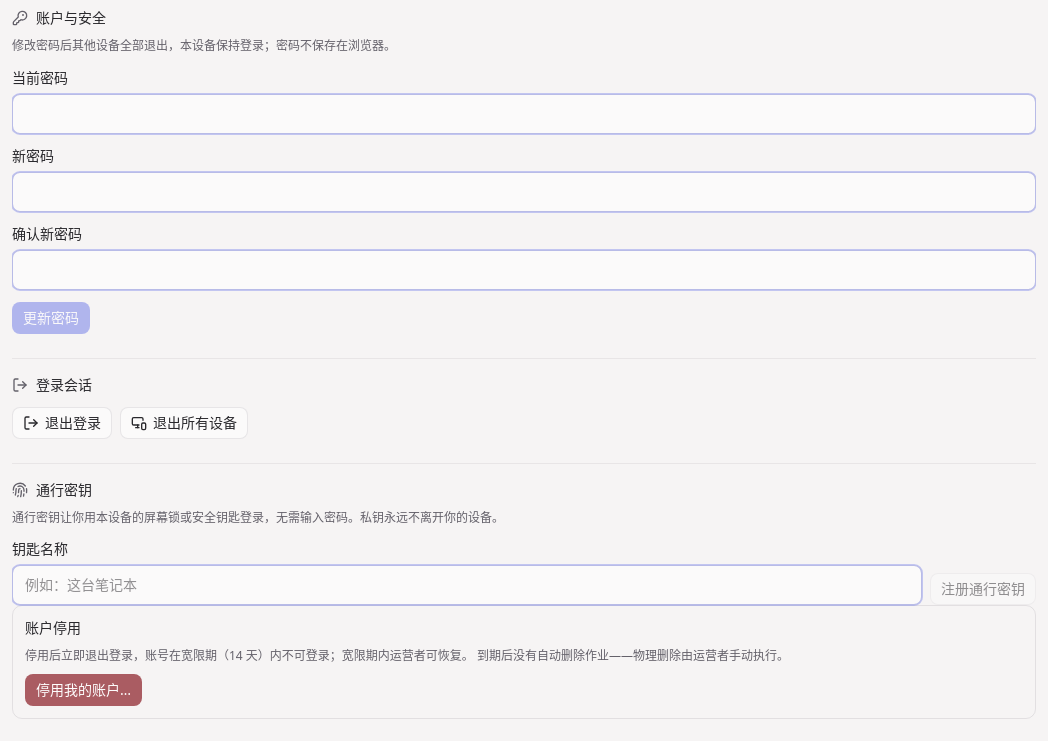
Scenario: N005 密码强度（本地评估） › 改密表单随输入渲染强度条；强度评估不发任何网络请求
Step 1. Type "abcdefgh" into the password field labelled "新密码" → (524, 192), box [12,172,1036,212]
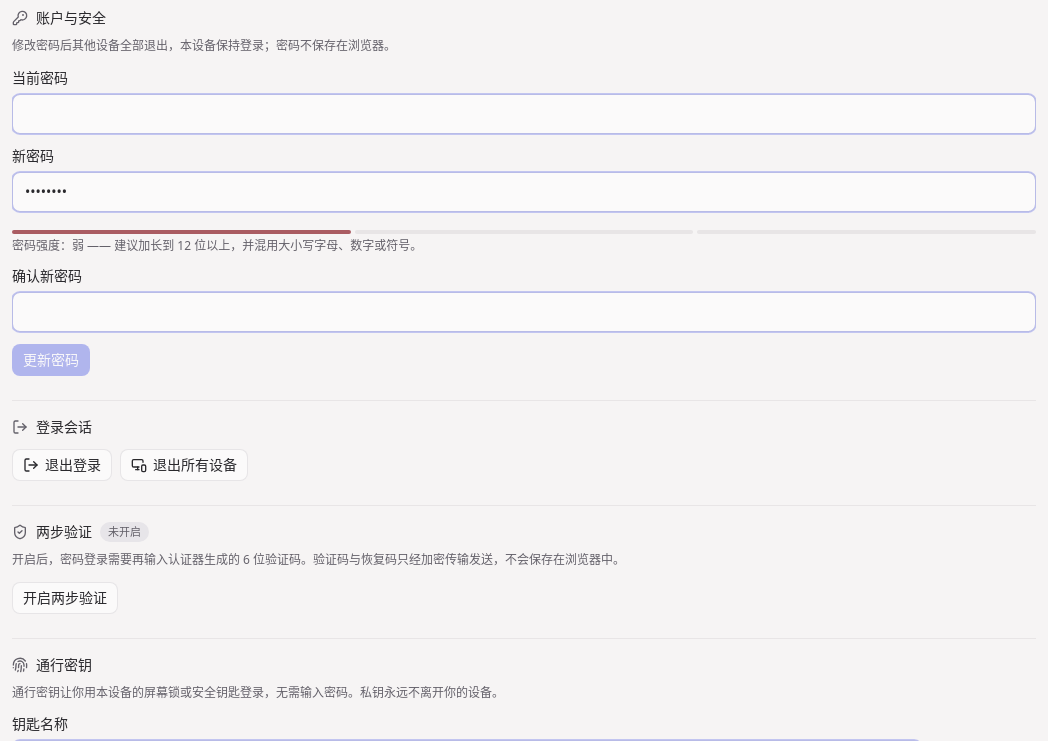
Check: the text "密码强度：弱 —— 建议加长到 12 位以上，并混用大小写字母、数字或符号。" is shown, box [12,236,422,254]
Step 2. Type "Zx9!vT2q#Lm4" into the password field labelled "新密码" → (524, 192), box [12,172,1036,212]
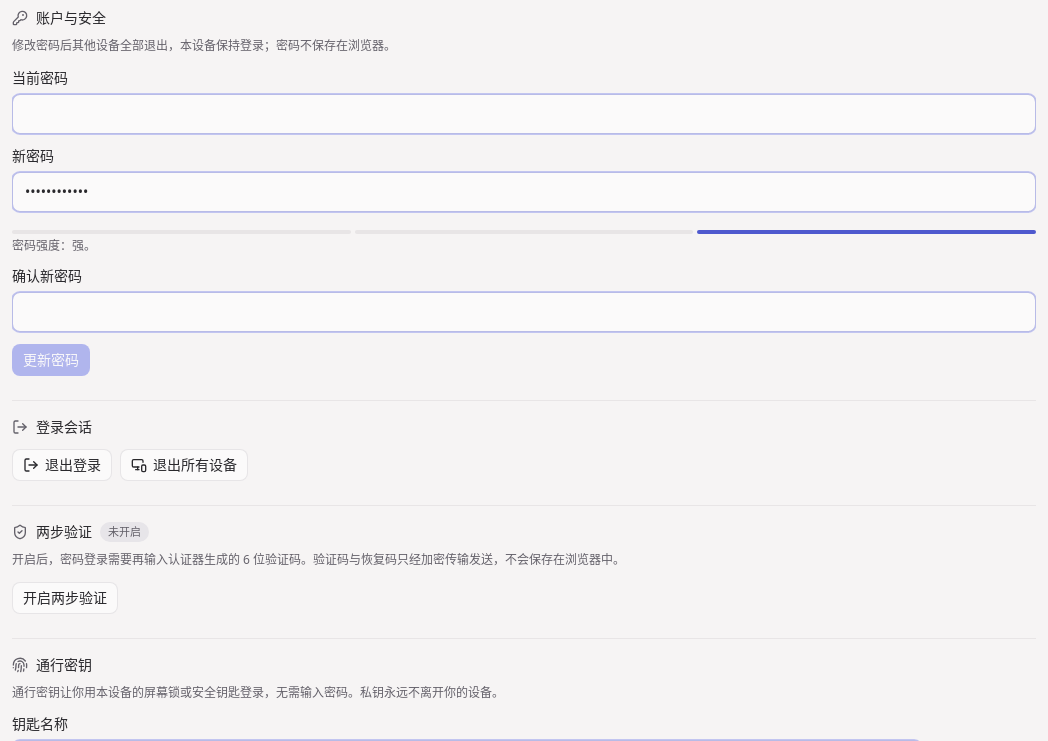
Check: the text "密码强度：强。" is shown, box [12,236,96,254]
Step 3. Clear the password field labelled "新密码" → (524, 192), box [12,172,1036,212]
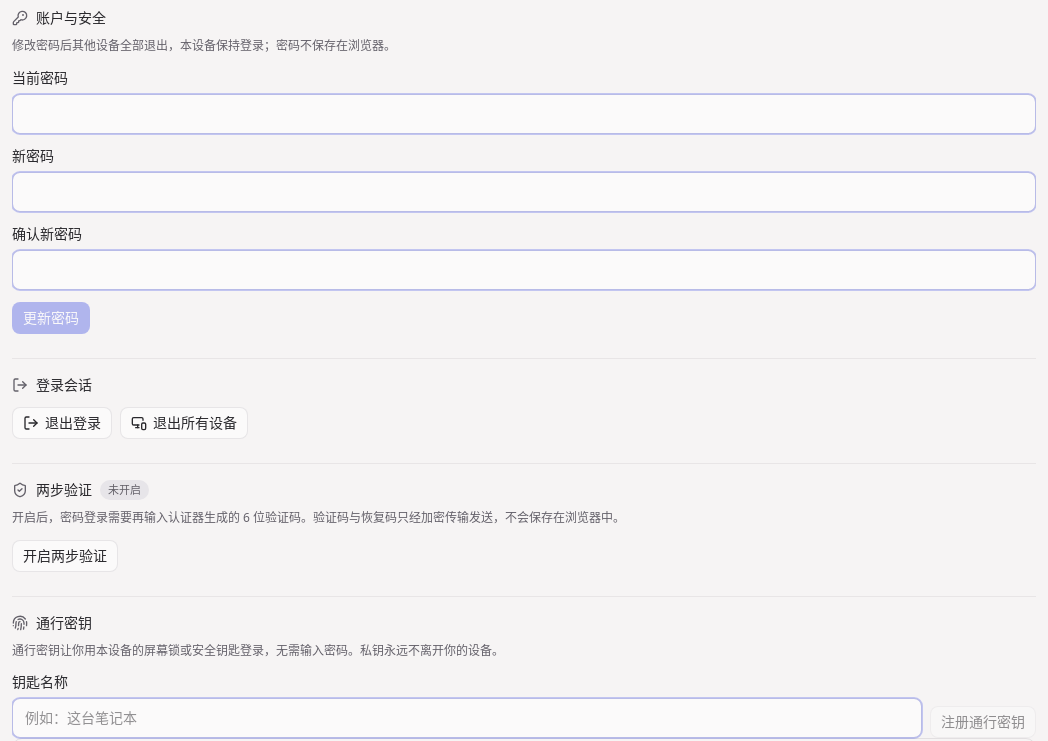
Check: the element with test id "password-strength" is gone
